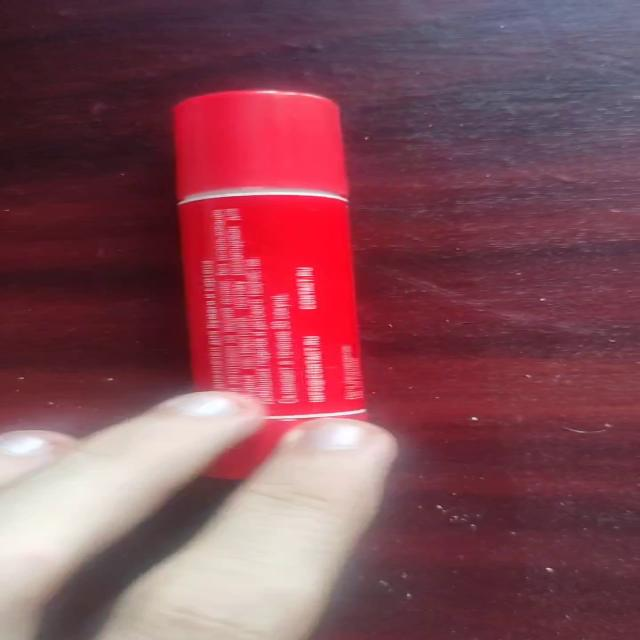glue: (172, 88, 370, 478)
